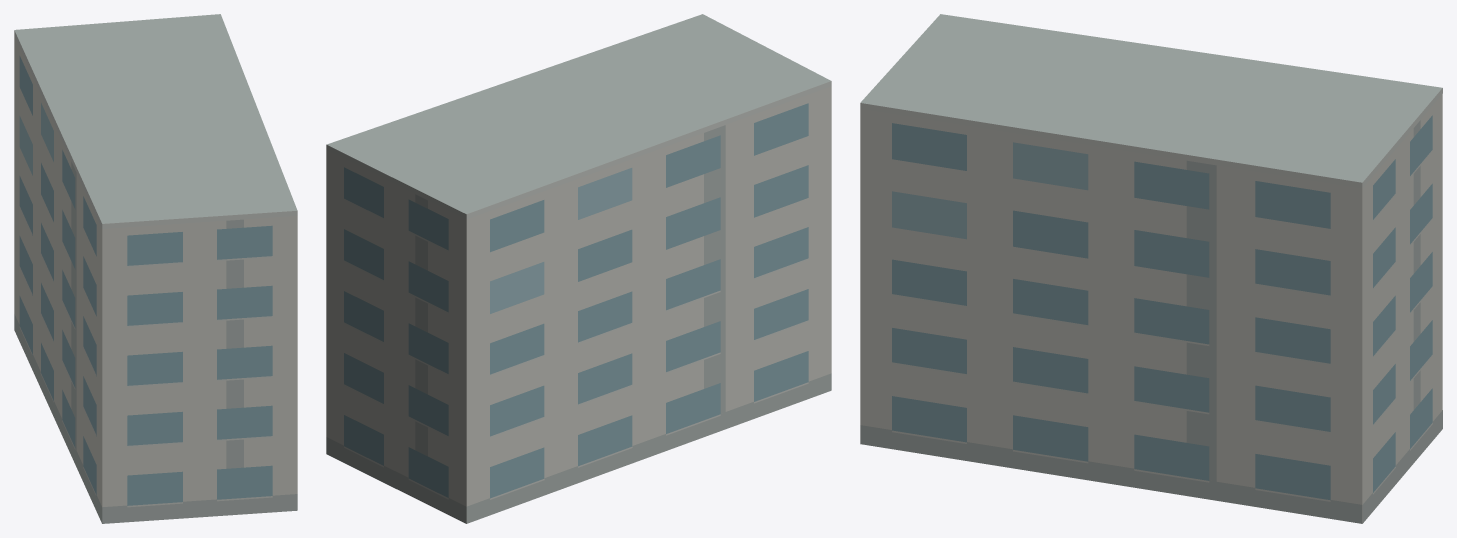
File: survey-upis-32566702.glb
The picture shows the model from 3 angles, left to right: view 1: azimuth 30°, elevation 25°; view 2: azimuth 150°, elevation 25°; view 3: azimuth 270°, elevation 25°; orthographic projection. The views are drawn at different scales.
Visible parts, largest first — view 1: survey-upis-32566702.tmp; view 2: survey-upis-32566702.tmp; view 3: survey-upis-32566702.tmp.
Boxes of the visible parts, <box> form: survey-upis-32566702.tmp: <box>14,14,297,523</box>; survey-upis-32566702.tmp: <box>326,14,831,523</box>; survey-upis-32566702.tmp: <box>860,14,1442,523</box>.
Bounding box in the file's own units: 14.96 × 14.1 × 21.83.
